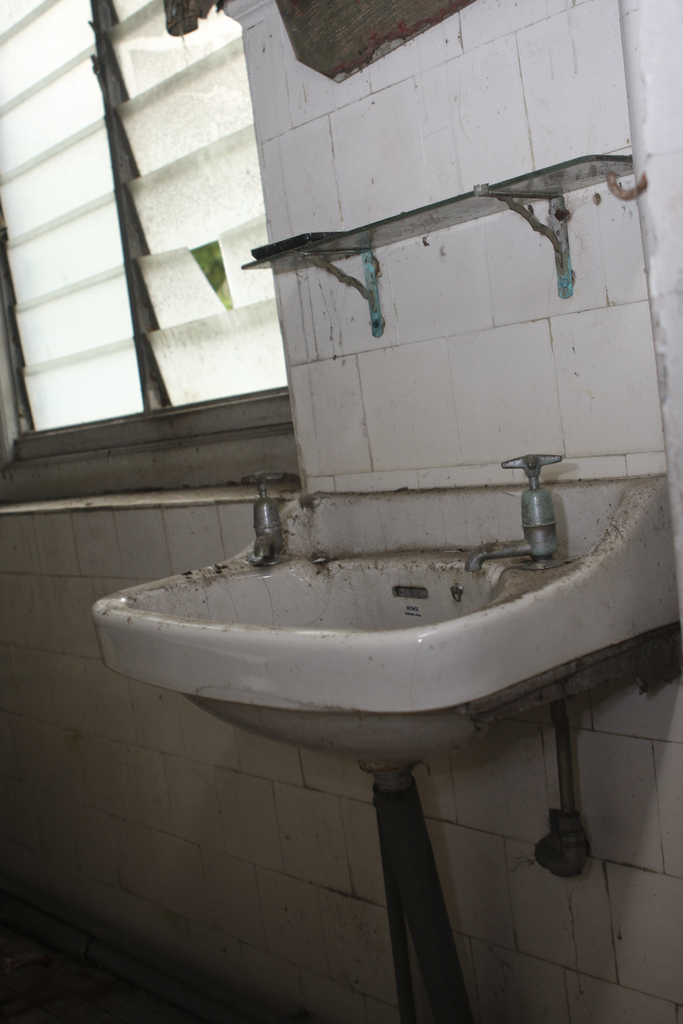tap: (460, 451, 598, 566), (225, 464, 297, 574)
